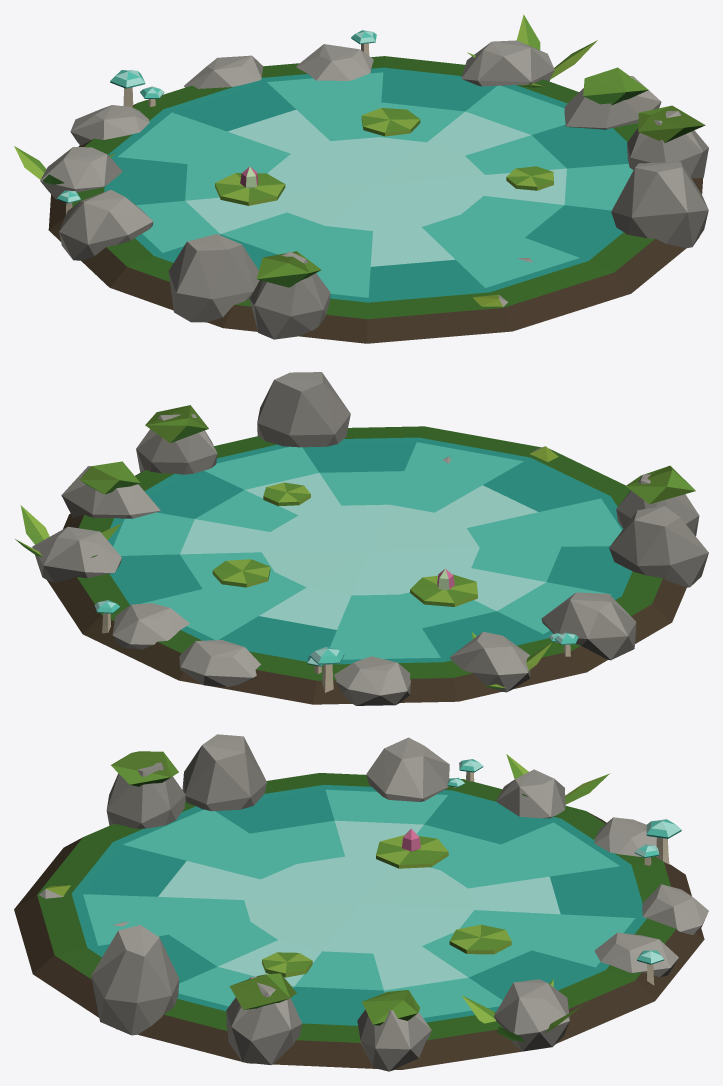
File: burrow_spring.glb
3 views of the same model, one above another, from view 1: azimuth 30°, elevation 25°; view 2: azimuth 150°, elevation 25°; view 3: azimuth 270°, elevation 25° (orthographic). The views are drawn at different scales.
Visible parts, largest first — view 1: burrow_spring; view 2: burrow_spring; view 3: burrow_spring.
Boxes of the visible parts, x1,y1,x2,y2 form: burrow_spring: (14,14,708,343); burrow_spring: (15,372,708,705); burrow_spring: (14,734,708,1071).
Bounding box in the file's own units: 2.42 × 0.2971 × 2.4.
